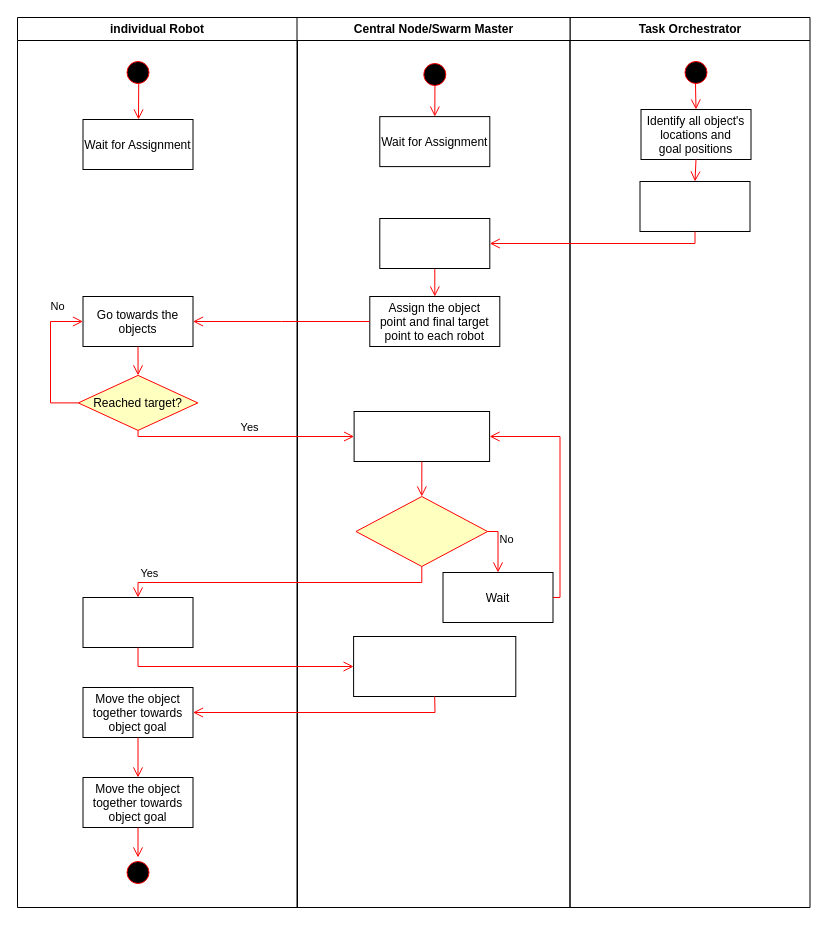
This 828x925 diagram has some shape labels left out. The shapes that lost their labels are listed below. From the top down, each one's centre as x and y in pixels, then its label:
pixel 694 206: Translate and pass info to swarm master
pixel 434 243: Get all the robot's initial locations
pixel 421 436: Check if all the robots of the group have reached their position
pixel 421 531: Have all robots reached target
pixel 137 622: Grasp object
pixel 434 666: Determine collision-free path for the swarm.
